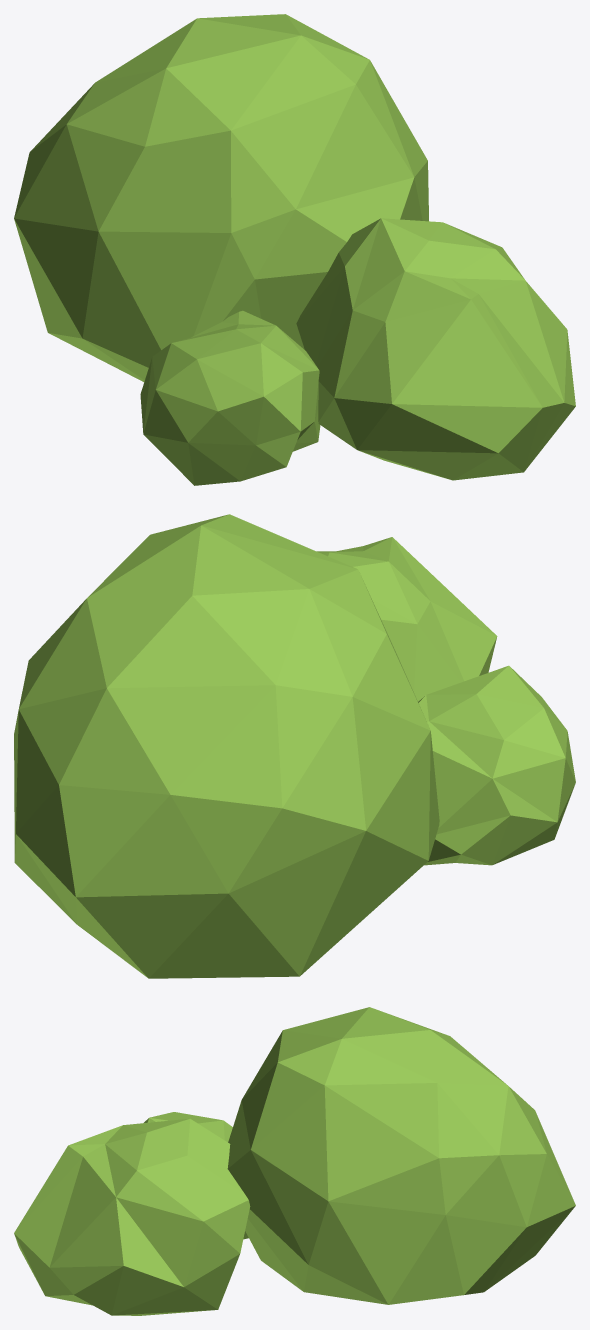
Rendered from GrassBush.fbx.
3 renders of one model, top to bottom at view 1: azimuth 30°, elevation 25°; view 2: azimuth 150°, elevation 25°; view 3: azimuth 270°, elevation 25°, orthographic. The views are drawn at different scales.
Visible parts, largest first — view 1: GrassBush; view 2: GrassBush; view 3: GrassBush.
Part boxes in pixels (<box>): GrassBush: <box>14,14,575,485</box>; GrassBush: <box>14,514,575,978</box>; GrassBush: <box>14,1007,575,1315</box>.
Size of the model in its own units: 451 by 375 by 747.
Materials: 1 (1 with a texture image).
